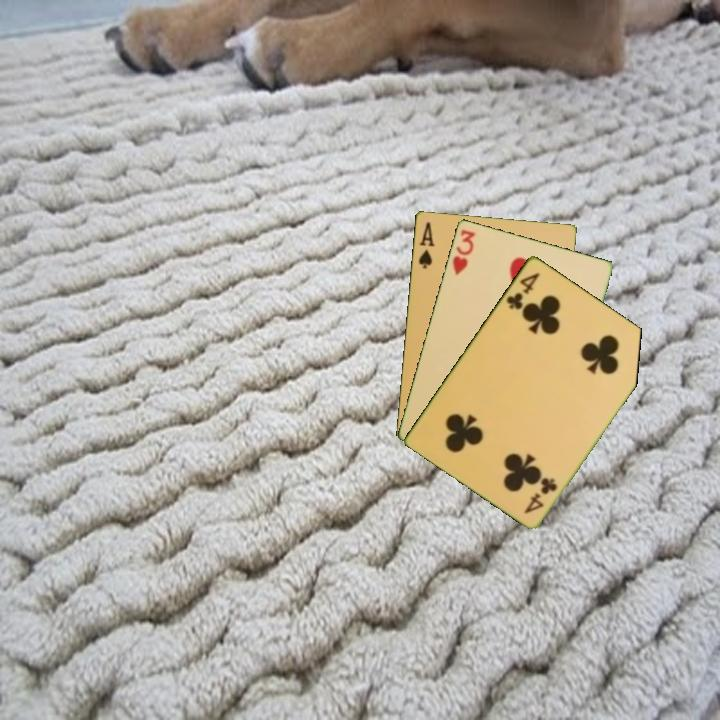3h: (449, 226, 478, 277)
4c: (502, 268, 543, 312), (521, 474, 560, 516)
As: (415, 218, 437, 271)
